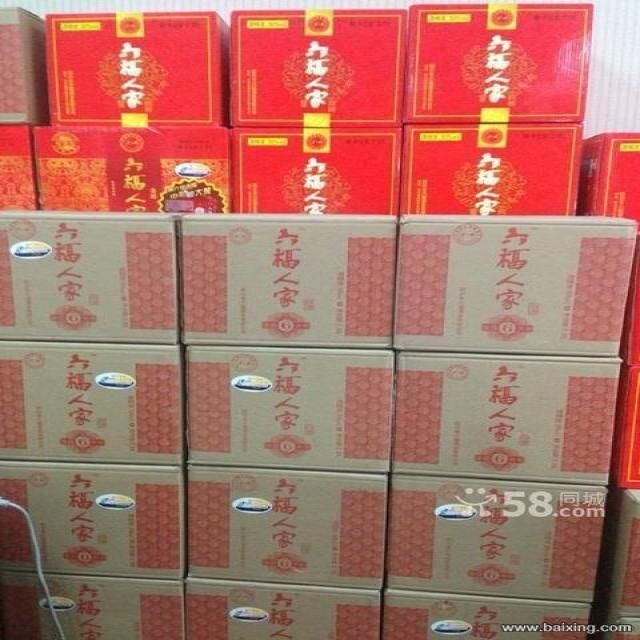box: (394, 212, 638, 358), (388, 351, 622, 487), (181, 210, 401, 348), (383, 473, 607, 602), (183, 343, 398, 475), (184, 463, 391, 592), (0, 207, 182, 341), (402, 4, 592, 125), (0, 341, 190, 462), (43, 11, 235, 127), (1, 460, 185, 578), (231, 8, 408, 125), (34, 124, 238, 212), (399, 121, 584, 214), (235, 123, 402, 212), (2, 571, 184, 638), (184, 576, 384, 636), (382, 589, 593, 637), (0, 7, 52, 123), (596, 482, 637, 618), (576, 131, 639, 219), (0, 123, 42, 208), (612, 356, 639, 487), (618, 223, 637, 365), (592, 597, 639, 639)
